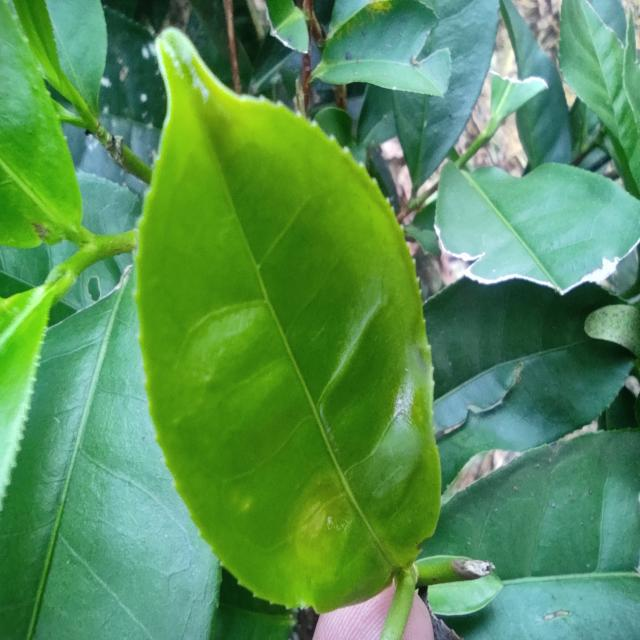Category C 4-7 days: (102, 0, 458, 623)
